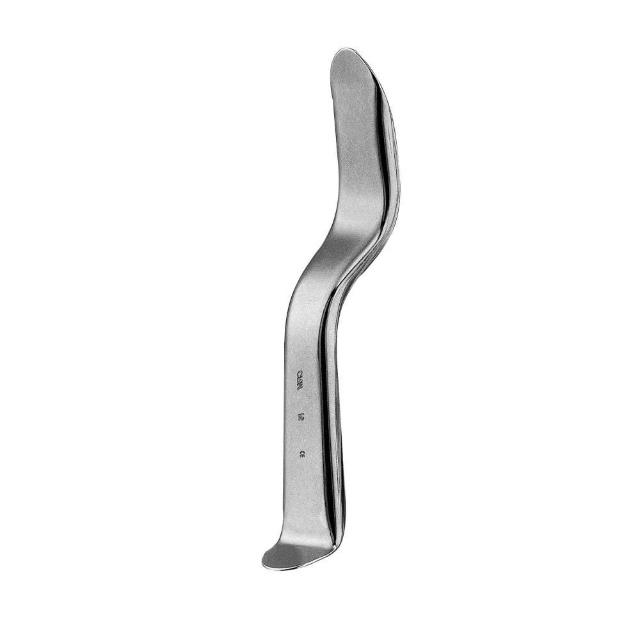separador: (260, 47, 404, 575)
